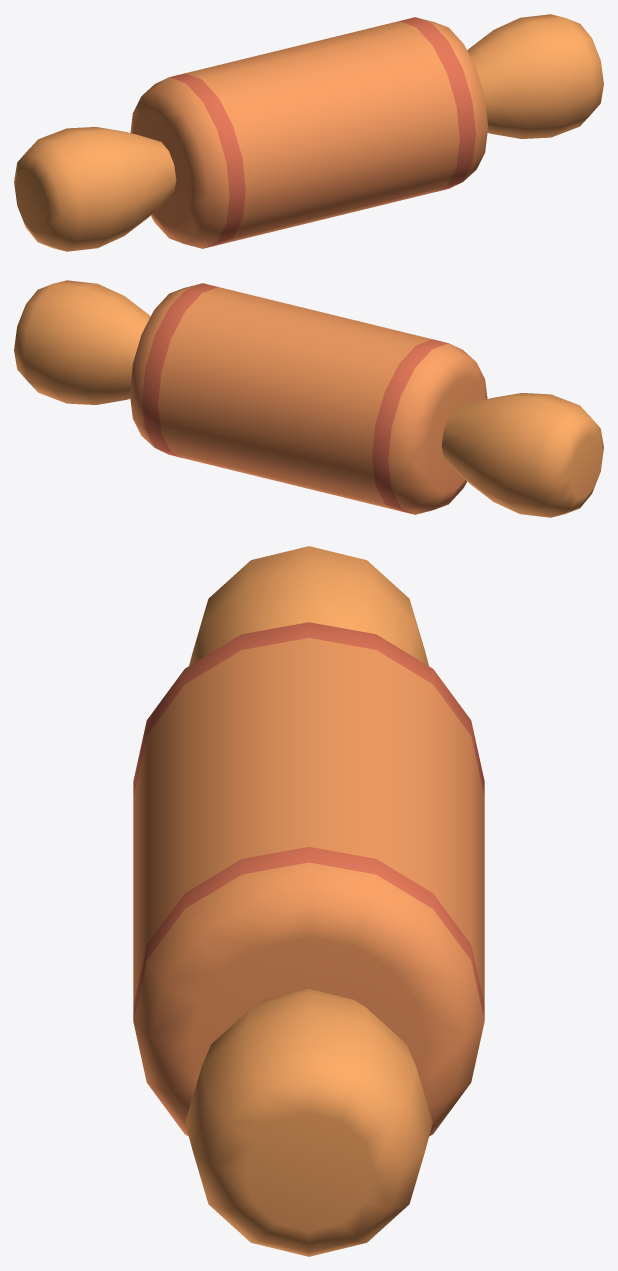
File: Utensils_004.fbx
3 views of the same model, one above another, from view 1: azimuth 30°, elevation 25°; view 2: azimuth 150°, elevation 25°; view 3: azimuth 270°, elevation 25° (orthographic). The views are drawn at different scales.
Parts seen in each view (by area): view 1: Utensils_004; view 2: Utensils_004; view 3: Utensils_004.
Boxes of the visible parts, x1,y1,x2,y2 form: Utensils_004: [14, 14, 603, 251]; Utensils_004: [14, 280, 603, 517]; Utensils_004: [133, 546, 484, 1256].
Bounding box in the file's own units: 0.3891 × 0.1066 × 0.1066.
